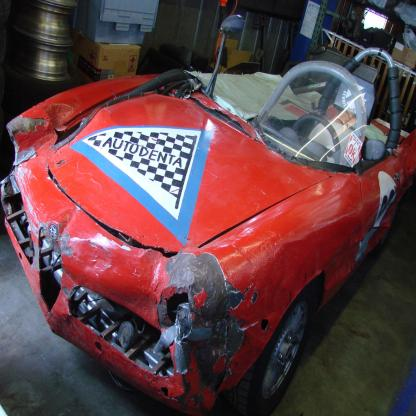Car: (9, 34, 403, 409)
